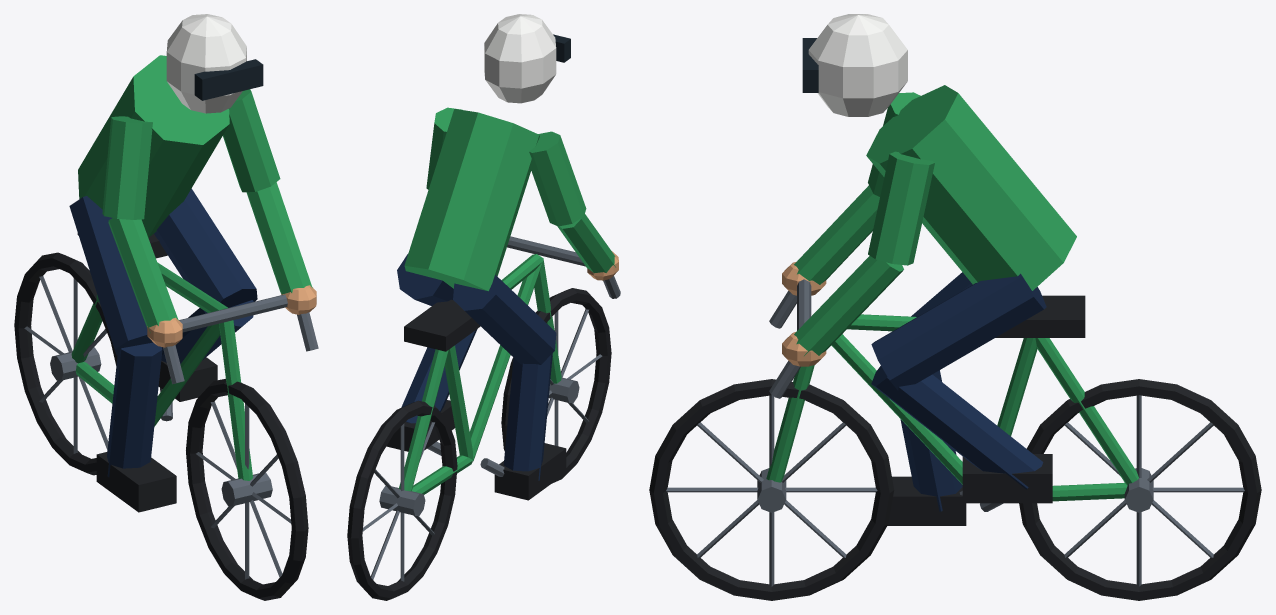
The model's file is bicycle.glb.
3 renders of one model, left to right at view 1: azimuth 30°, elevation 25°; view 2: azimuth 150°, elevation 25°; view 3: azimuth 270°, elevation 25°, orthographic. The views are drawn at different scales.
Parts seen in each view (by area): view 1: bicycle body; view 2: bicycle body; view 3: bicycle body.
Part boxes in pixels (box(x1,y1,x2,y2)): bicycle body: box(14, 14, 318, 600); bicycle body: box(347, 14, 620, 600); bicycle body: box(649, 14, 1261, 600).
Bounding box in the file's own units: 0.5967 × 1.79 × 1.7.
